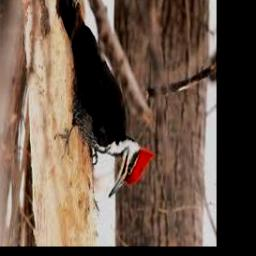Woodpecker: (56, 0, 155, 199)
